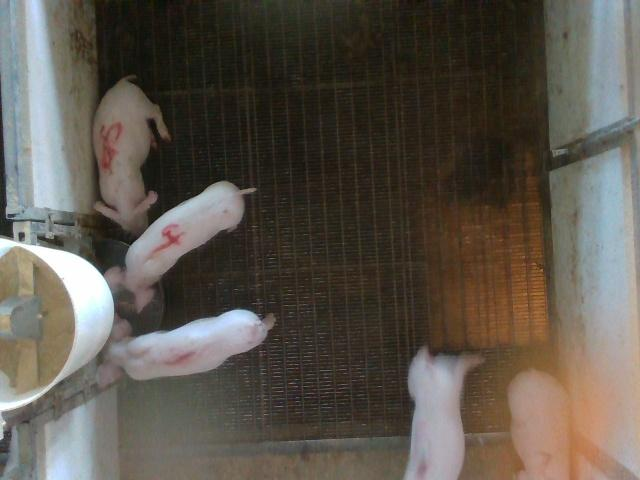pig-1: (98, 310, 275, 386)
pig-3: (404, 346, 482, 478)
pig-4: (105, 181, 254, 311)
pig-5: (92, 75, 171, 236)
